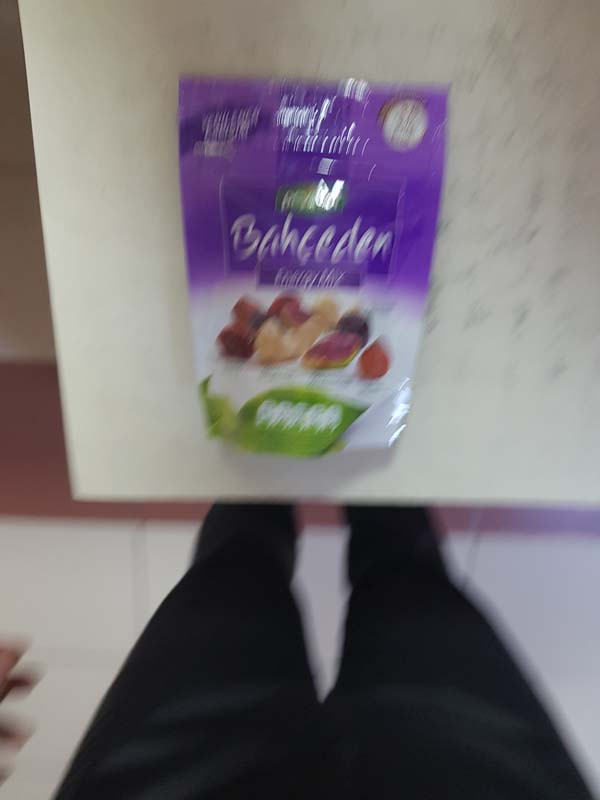bahcedenenergymix: (166, 53, 461, 461)
